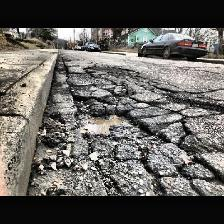pothole: (72, 94, 170, 146)
